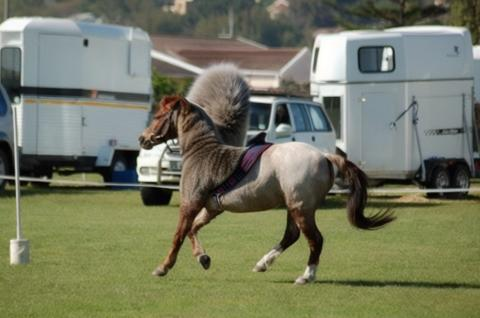car: (131, 93, 345, 206)
cat: (182, 57, 251, 196)
horse: (138, 93, 397, 289)
